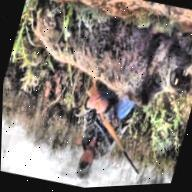boar: (13, 0, 192, 117)
